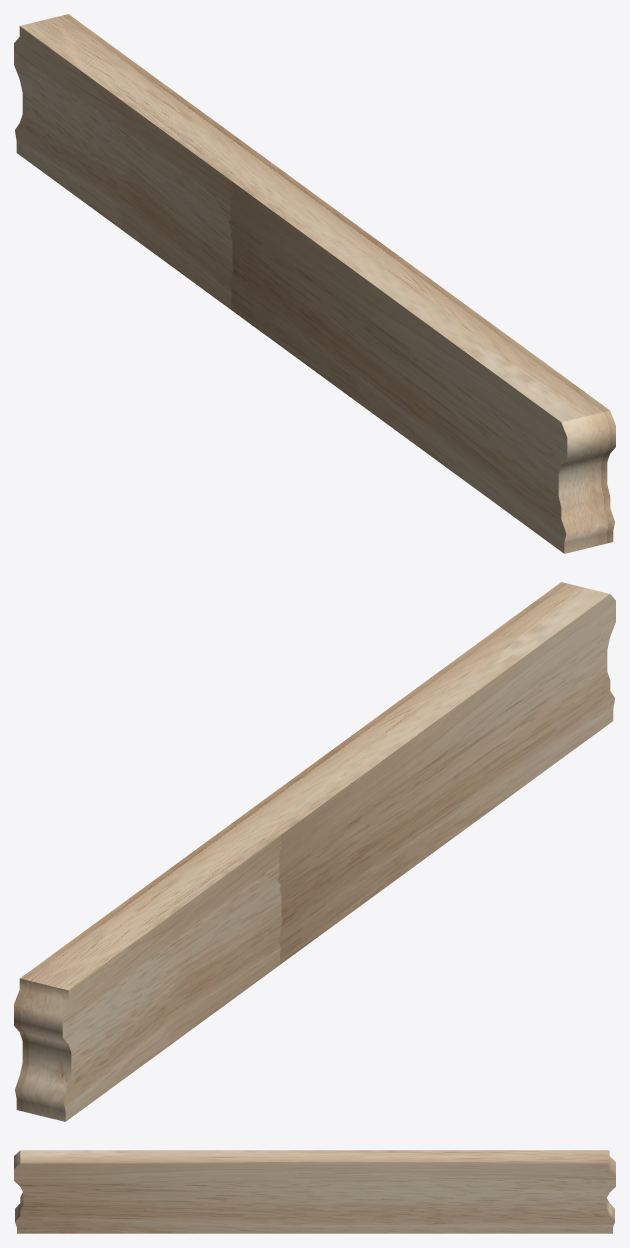
File: pancarte.fbx
3 renders of one model, top to bottom at view 1: azimuth 30°, elevation 25°; view 2: azimuth 150°, elevation 25°; view 3: azimuth 270°, elevation 25°, orthographic. The views are drawn at different scales.
Visible parts, largest first — view 1: pancarte; view 2: pancarte; view 3: pancarte.
Boxes of the visible parts, x1=… form: pancarte: x1=14, y1=14, x2=615, y2=553; pancarte: x1=14, y1=582, x2=615, y2=1121; pancarte: x1=14, y1=1150, x2=615, y2=1233.
Bounding box in the file's own units: 5.7 × 14.42 × 112.
Materials: 1 (1 with a texture image).
